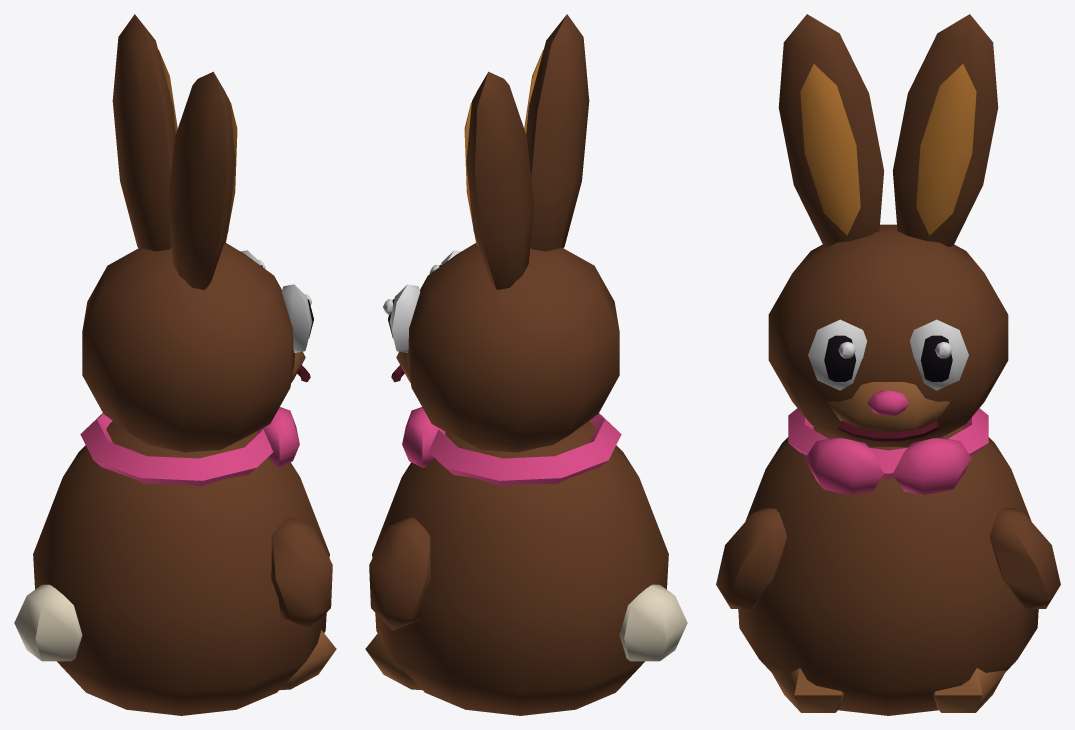
Rendered from choco_bunny.glb.
3 views of the same model, side by side, from view 1: azimuth 30°, elevation 25°; view 2: azimuth 150°, elevation 25°; view 3: azimuth 270°, elevation 25° (orthographic). The views are drawn at different scales.
Visible parts, largest first — view 1: choco_bunny; view 2: choco_bunny; view 3: choco_bunny.
Part boxes in pixels (box(x1,y1,x2,y2)): choco_bunny: box(14, 14, 336, 715); choco_bunny: box(365, 14, 687, 715); choco_bunny: box(716, 14, 1060, 715).
Bounding box in the file's own units: 0.3883 × 0.8276 × 0.3931.
